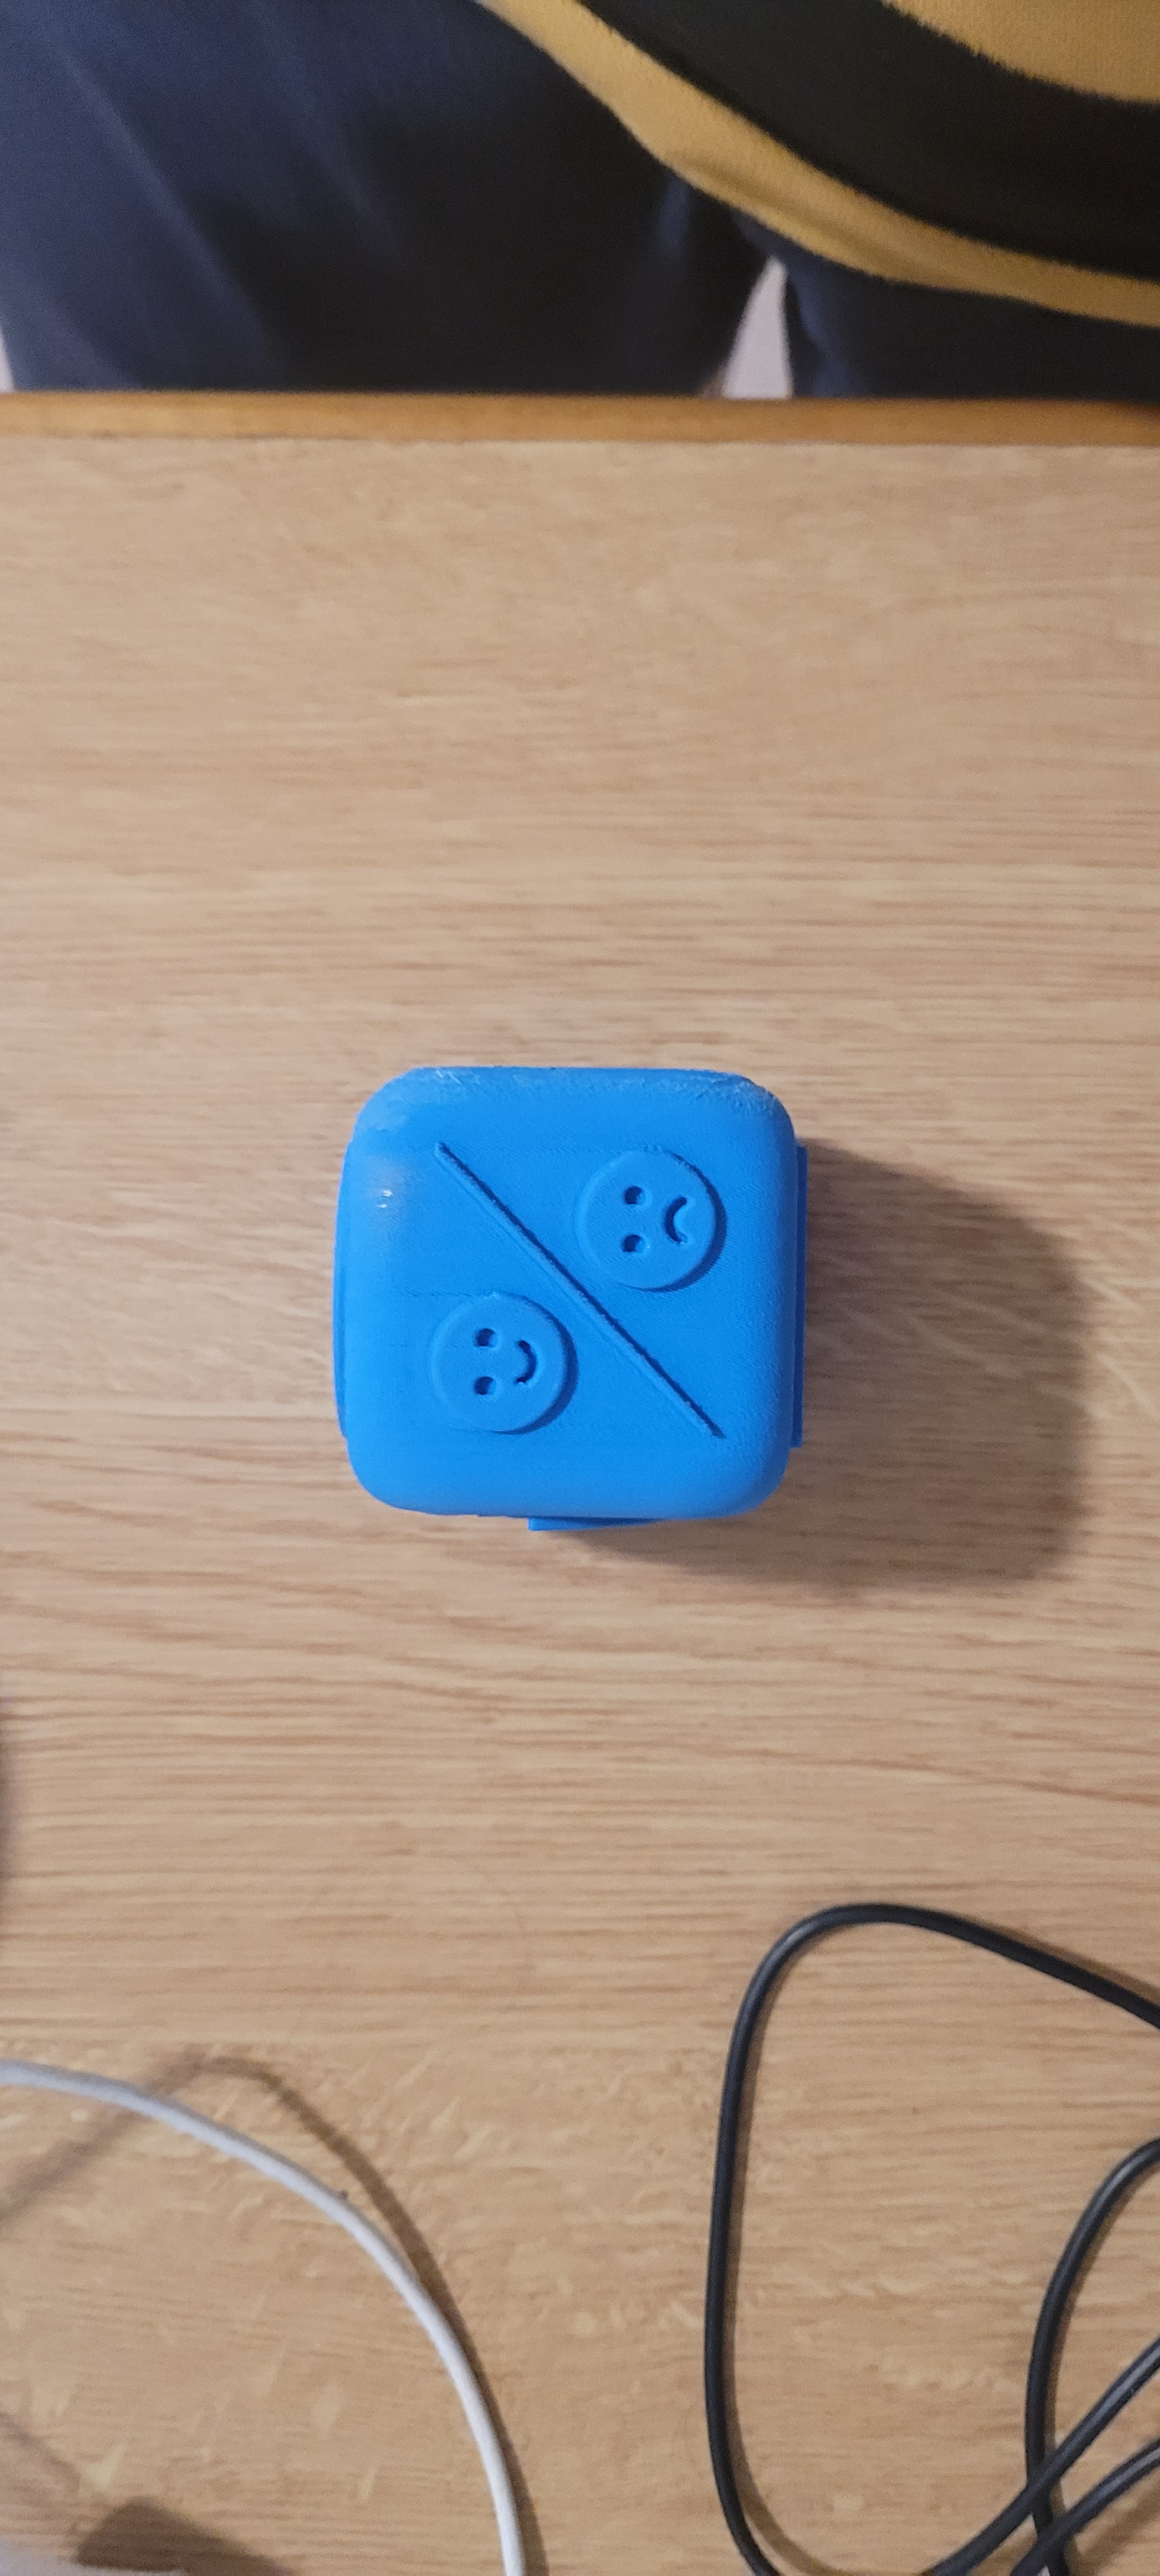Like/Dislike: (350, 1053, 764, 1483)
